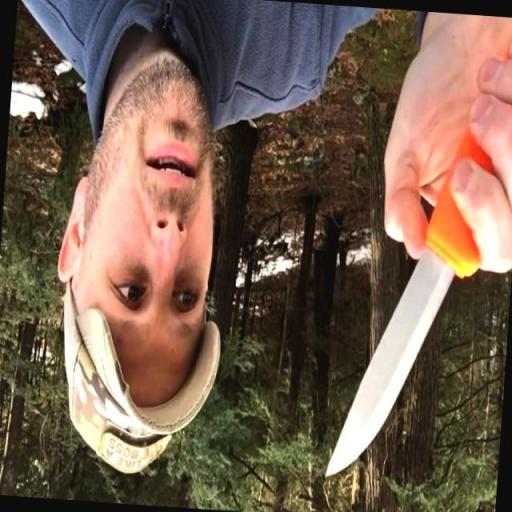knife: (319, 140, 512, 494)
